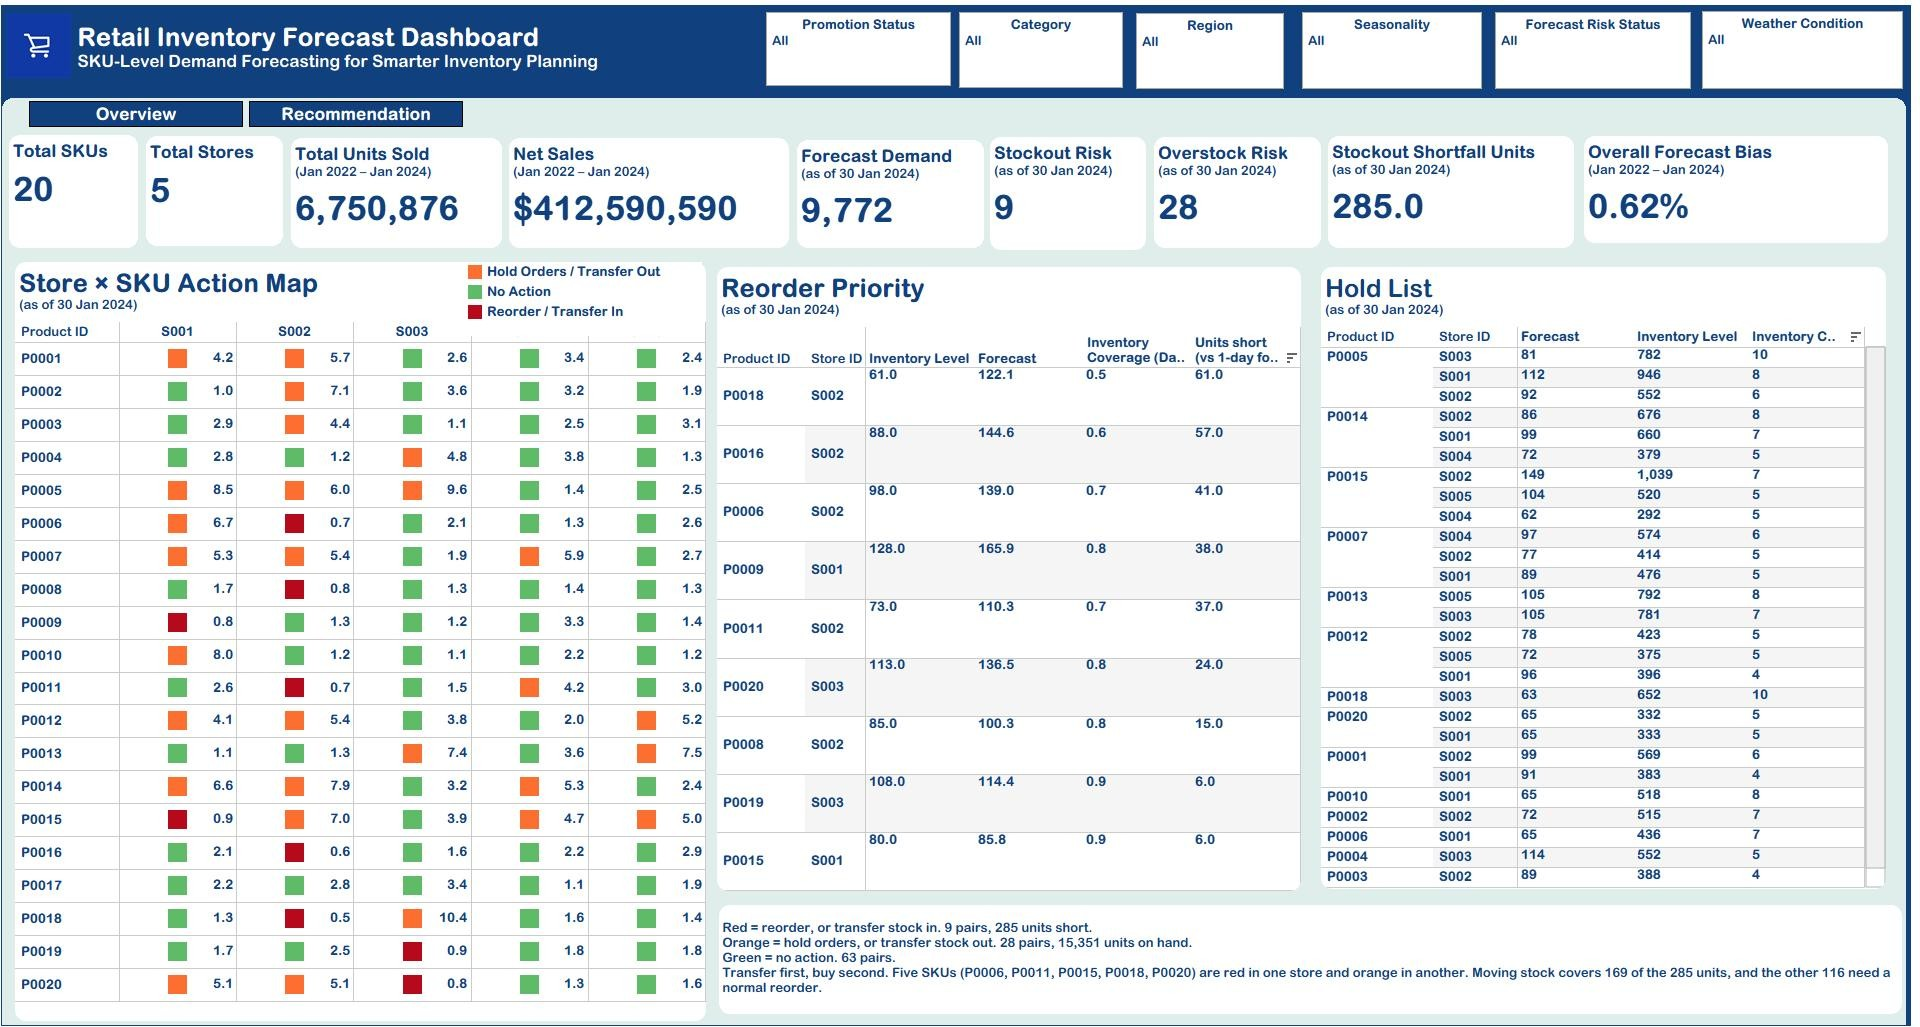

The dashboard page shown, as its layout file describes it:
{"tool":"tableau","page":{"name":"Overview","canvas":[1000,1000],"units":"permille","ordinal":0},"visuals":[{"type":"blank","box":[0.6,4.7,994.6,978.9]},{"type":"image","param":"Image/Cart.jpg","box":[3,9.4,33.8,68.2]},{"type":"filter","title":"Total SKUs","param":"[federated.01nwt6w1y5inbg1a3wxy710sdfyo].[none:Weather Condition:nk]","box":[886.5,10.6,104.4,75.2]},{"type":"text","box":[38.6,11.8,333.7,65.8]},{"type":"filter","title":"Total Units Sold","param":"[federated.01nwt6w1y5inbg1a3wxy710sdfyo].[none:Calculation_1404124623446016:nk]","box":[398.9,11.8,96.6,70.5]},{"type":"filter","title":"Total SKUs","param":"[federated.01nwt6w1y5inbg1a3wxy710sdfyo].[none:Category:nk]","box":[499.7,11.8,85.1,72.9]},{"type":"filter","title":"Total SKUs","param":"[federated.01nwt6w1y5inbg1a3wxy710sdfyo].[none:Seasonality:nk]","box":[678.3,11.8,93.5,74]},{"type":"filter","title":"Total SKUs","param":"[federated.01nwt6w1y5inbg1a3wxy710sdfyo].[none:Calculation_0664428164136963:nk]","box":[778.5,11.8,102,74]},{"type":"filter","title":"Total SKUs","param":"[federated.01nwt6w1y5inbg1a3wxy710sdfyo].[none:Region:nk]","box":[591.4,12.9,77.2,72.9]},{"type":"blank","box":[1.2,94,991.6,888.4]},{"type":"dashboard-object","box":[15.1,96.4,111.7,25.9]},{"type":"dashboard-object","box":[129.8,96.4,111.7,25.9]},{"type":"worksheet","title":"Total SKUs","mark":"Automatic","box":[4.8,129.3,67,108.1]},{"type":"worksheet","title":"Total Stores","mark":"Automatic","box":[76,130.4,71.2,105.8]},{"type":"worksheet","title":"Stockout Shortfall Units","mark":"Automatic","box":[691.6,130.4,127.9,106.9]},{"type":"worksheet","title":"Overall Forecast Bias","mark":"Automatic","box":[825,130.4,158.1,102.2]},{"type":"worksheet","title":"Stockout Risk","mark":"Automatic","box":[515.4,131.6,81.5,108.1]},{"type":"worksheet","title":"Overstock Risk","mark":"Automatic","box":[601.1,131.6,86.9,105.8]},{"type":"worksheet","title":"Total Units Sold","mark":"Automatic","box":[151.5,132.8,109.8,104.6]},{"type":"worksheet","title":"Net Sales","mark":"Automatic","box":[264.9,132.8,146.1,104.6]},{"type":"worksheet","title":"Forecast Demand","mark":"Automatic","box":[415.2,134,97.2,103.4]},{"type":"worksheet","title":"Store Inventory Risk (Map)","mark":"Automatic","rows":["Calculation_0235618656538628"],"cols":["Calculation_0235618656702469"],"box":[7.4,245.6,246.3,599.3]},{"type":"worksheet","title":"Demand Forecast Trend","mark":"Line","rows":["Calculation_0235618658820102"],"cols":["Date"],"box":[263.1,246.8,416.4,337.2]},{"type":"legend","title":"Demand Forecast Trend","param":"[federated.01nwt6w1y5inbg1a3wxy710sdfyo].[:Measure Names]","box":[598.5,246.8,77.9,72.9]},{"type":"worksheet","title":"Forecast Detail","mark":"Automatic","rows":["Product ID","Store ID"],"box":[689.2,246.8,293.3,337.2]},{"type":"legend","title":"Store Inventory Risk (Map)","param":"[federated.01nwt6w1y5inbg1a3wxy710sdfyo].[none:Calculation_0664428164136963:nk]","box":[179.6,316.1,74.2,76.4]},{"type":"worksheet","title":"Store Inventory Risk","mark":"Automatic","rows":["Store ID"],"cols":["Product ID"],"box":[264.3,609.9,220.9,358.4]},{"type":"worksheet","title":"Risk by Category","mark":"Automatic","rows":["Category"],"cols":["Product ID"],"box":[739.9,611.1,246.3,352.5]},{"type":"worksheet","title":"Top 5 Demand SKUs ","mark":"Bar","rows":["Product ID"],"cols":["Demand"],"box":[492.5,612.2,242.6,353.7]},{"type":"text","box":[6,859,251.1,114]}]}

Visuals, with their boxes on the dashboard's canvas, which has no fixed pixel size, in thousandths of its width and height (x1, y1, x2, y2). These are canvas units, not pixel positions in the 1920x1027 screenshot, which may show the page scaled, cropped or inside an application window:
blank: locate(1, 5, 995, 984)
image: locate(3, 9, 37, 78)
"Total SKUs" filter: locate(886, 11, 991, 86)
text: locate(39, 12, 372, 78)
"Total Units Sold" filter: locate(399, 12, 496, 82)
"Total SKUs" filter: locate(500, 12, 585, 85)
"Total SKUs" filter: locate(678, 12, 772, 86)
"Total SKUs" filter: locate(778, 12, 880, 86)
"Total SKUs" filter: locate(591, 13, 669, 86)
blank: locate(1, 94, 993, 982)
dashboard-object: locate(15, 96, 127, 122)
dashboard-object: locate(130, 96, 242, 122)
"Total SKUs" worksheet: locate(5, 129, 72, 237)
"Total Stores" worksheet: locate(76, 130, 147, 236)
"Stockout Shortfall Units" worksheet: locate(692, 130, 820, 237)
"Overall Forecast Bias" worksheet: locate(825, 130, 983, 233)
"Stockout Risk" worksheet: locate(515, 132, 597, 240)
"Overstock Risk" worksheet: locate(601, 132, 688, 237)
"Total Units Sold" worksheet: locate(152, 133, 261, 237)
"Net Sales" worksheet: locate(265, 133, 411, 237)
"Forecast Demand" worksheet: locate(415, 134, 512, 237)
"Store Inventory Risk (Map)" worksheet: locate(7, 246, 254, 845)
"Demand Forecast Trend" worksheet (Line marks): locate(263, 247, 680, 584)
"Demand Forecast Trend" legend: locate(598, 247, 676, 320)
"Forecast Detail" worksheet: locate(689, 247, 982, 584)
"Store Inventory Risk (Map)" legend: locate(180, 316, 254, 392)
"Store Inventory Risk" worksheet: locate(264, 610, 485, 968)
"Risk by Category" worksheet: locate(740, 611, 986, 964)
"Top 5 Demand SKUs " worksheet (Bar marks): locate(492, 612, 735, 966)
text: locate(6, 859, 257, 973)
